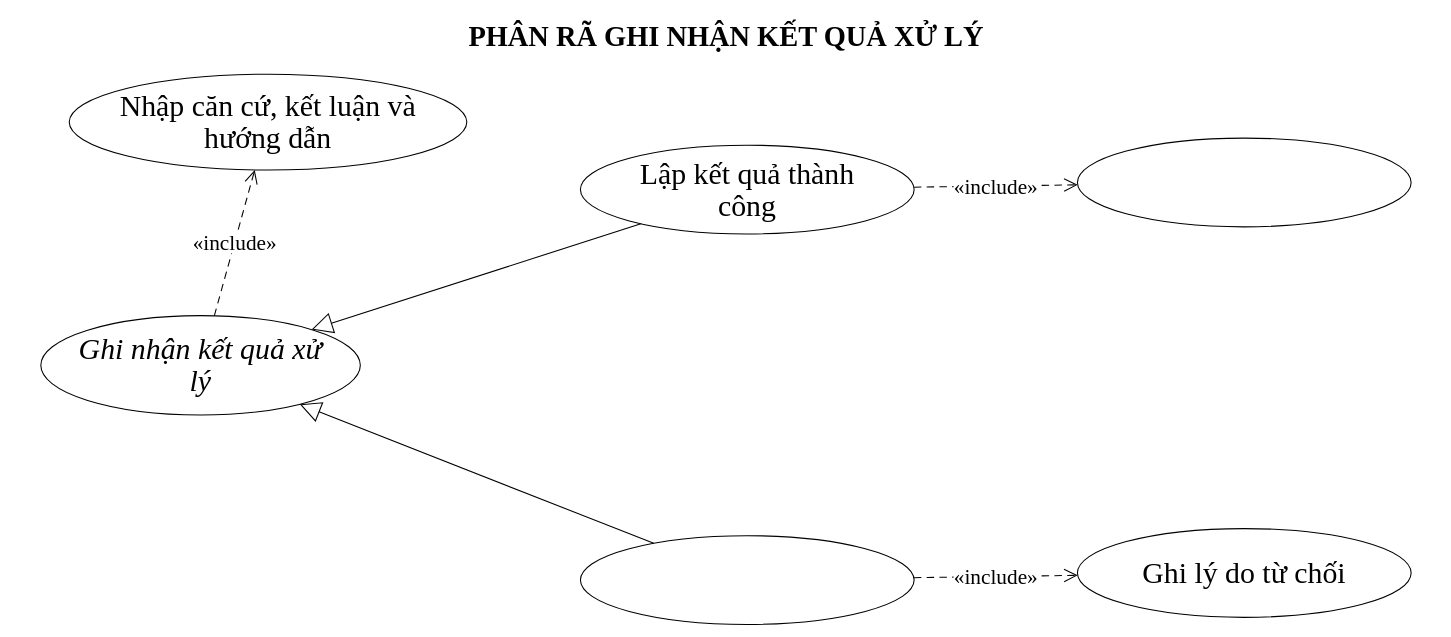
Image size: 1451x637. Some labels were removed from this diagram. Each missing label, with the centre of its shape:
"Từ chối giải quyết" goes at pixel 747 580.
"Đính kèm tệp kết quả" goes at pixel 1244 182.
